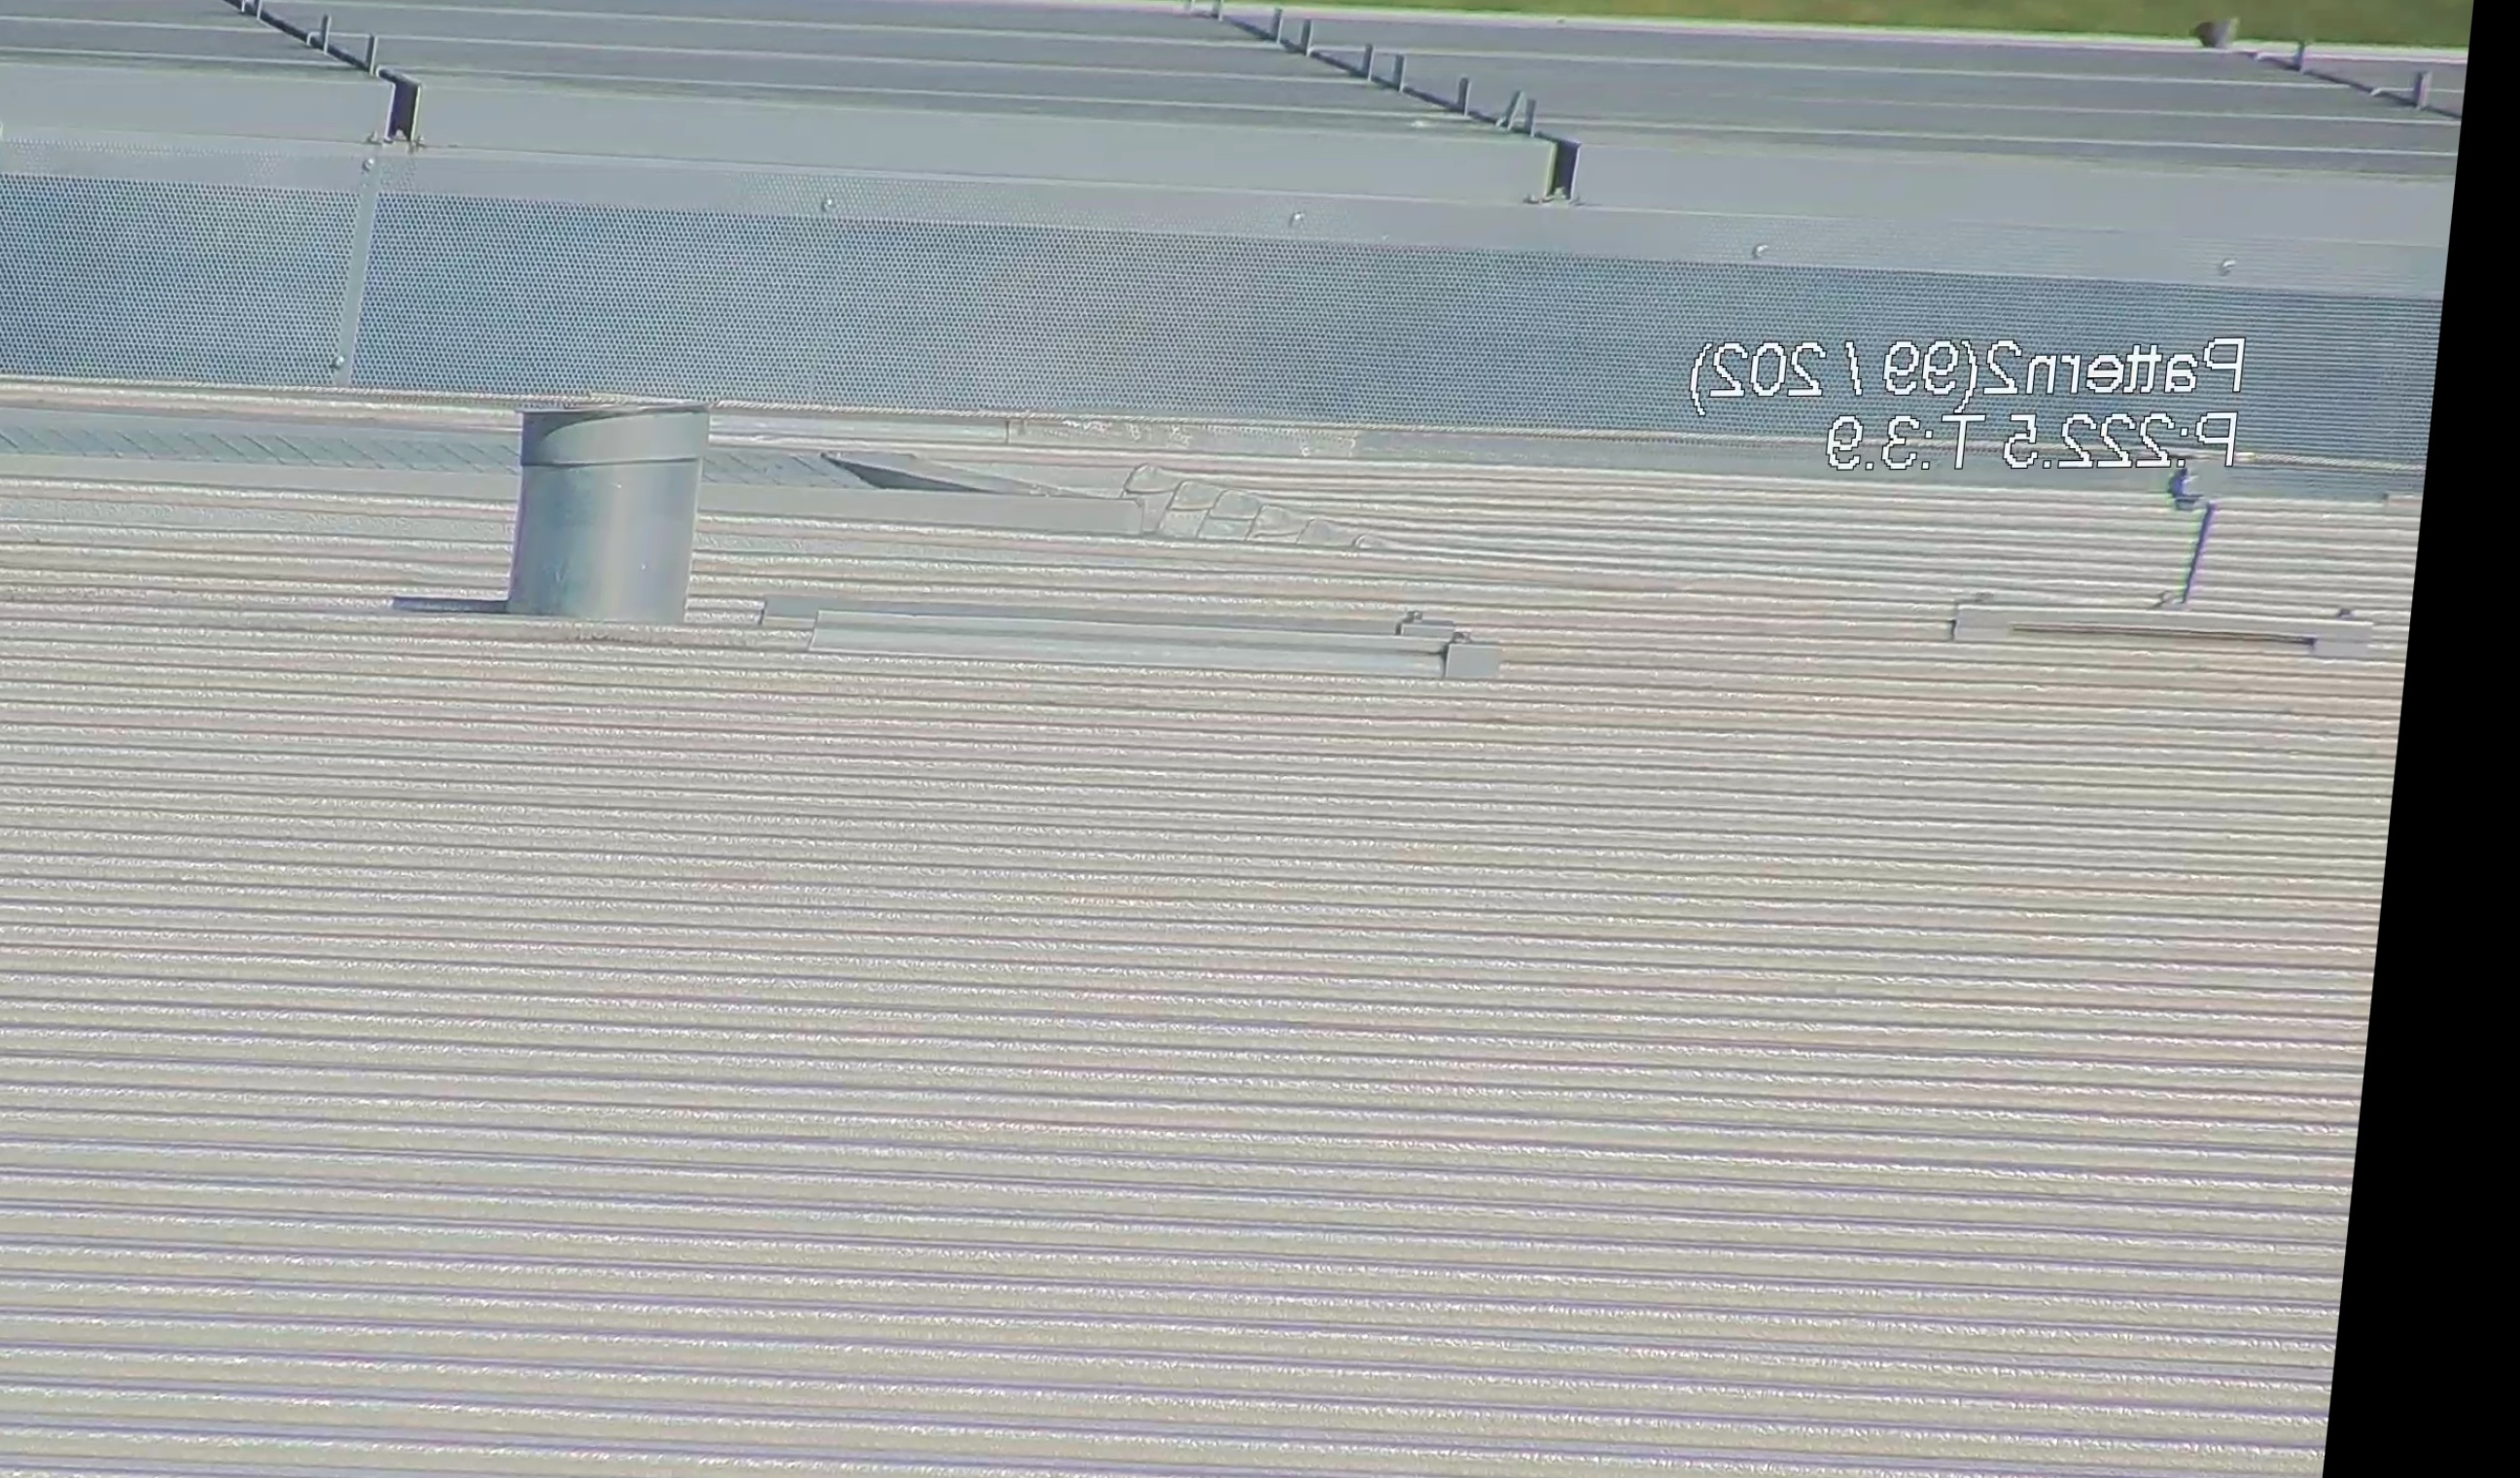Other: (2186, 4, 2249, 58)
